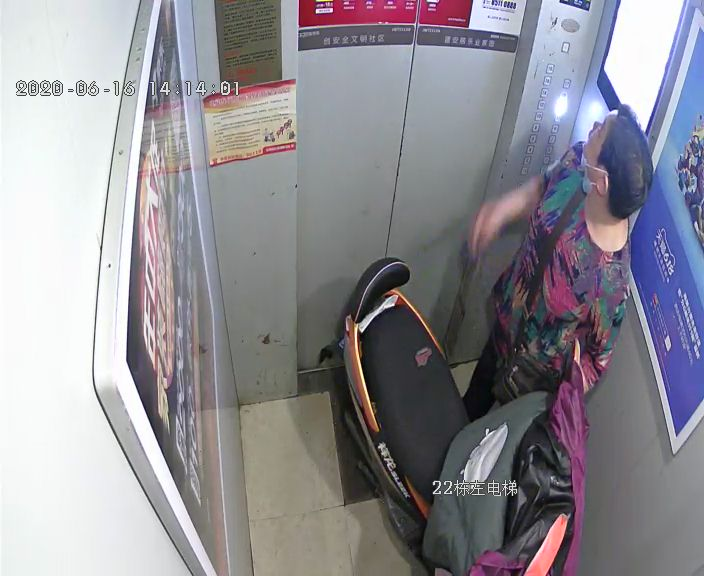Electric-bicycle: (322, 258, 583, 574)
